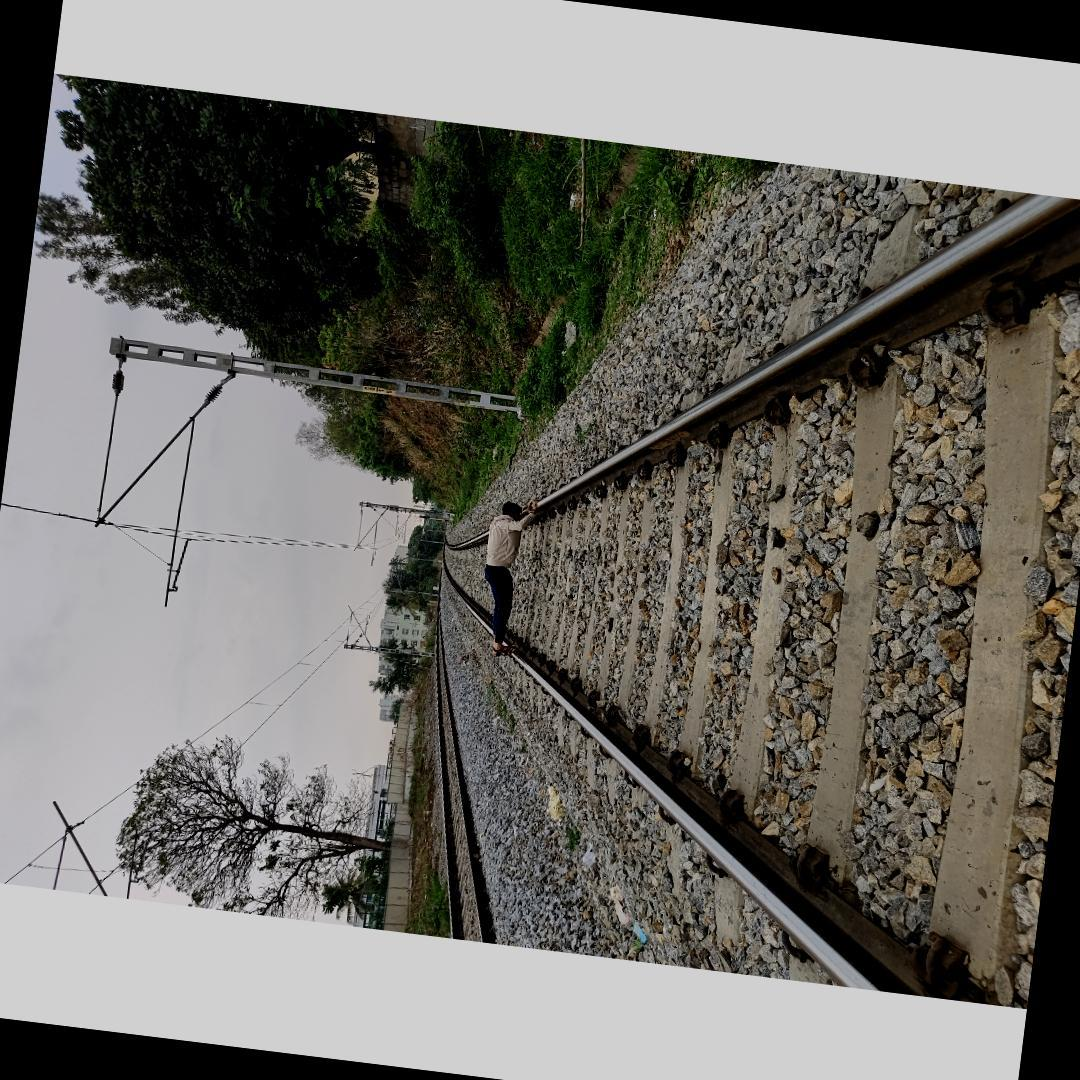sleeping: (470, 493, 541, 658)
track: (431, 196, 1080, 1008)
